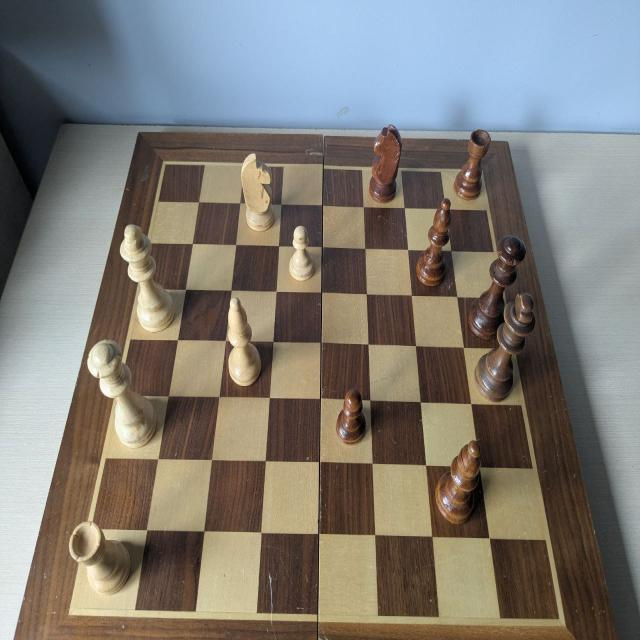black_bishop: (435, 438, 483, 524), (416, 197, 452, 287)
black_king: (474, 291, 536, 402)
black_knight: (368, 124, 402, 203)
black_pawn: (336, 388, 366, 445)
black_queen: (467, 233, 527, 338)
black_rook: (452, 129, 490, 201)
white_bishop: (226, 297, 262, 386)
white_king: (122, 224, 175, 330)
white_knight: (242, 152, 274, 230)
white_pawn: (287, 222, 316, 280)
white_queen: (86, 337, 158, 446)
white_rook: (68, 518, 132, 595)
